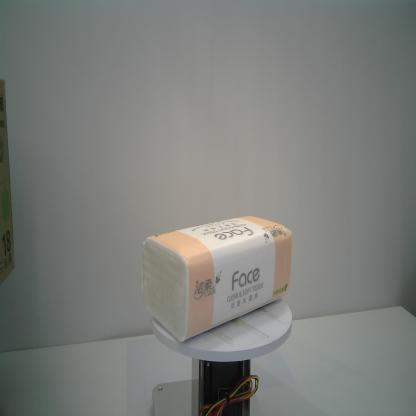Tissue: (140, 214, 292, 343)
